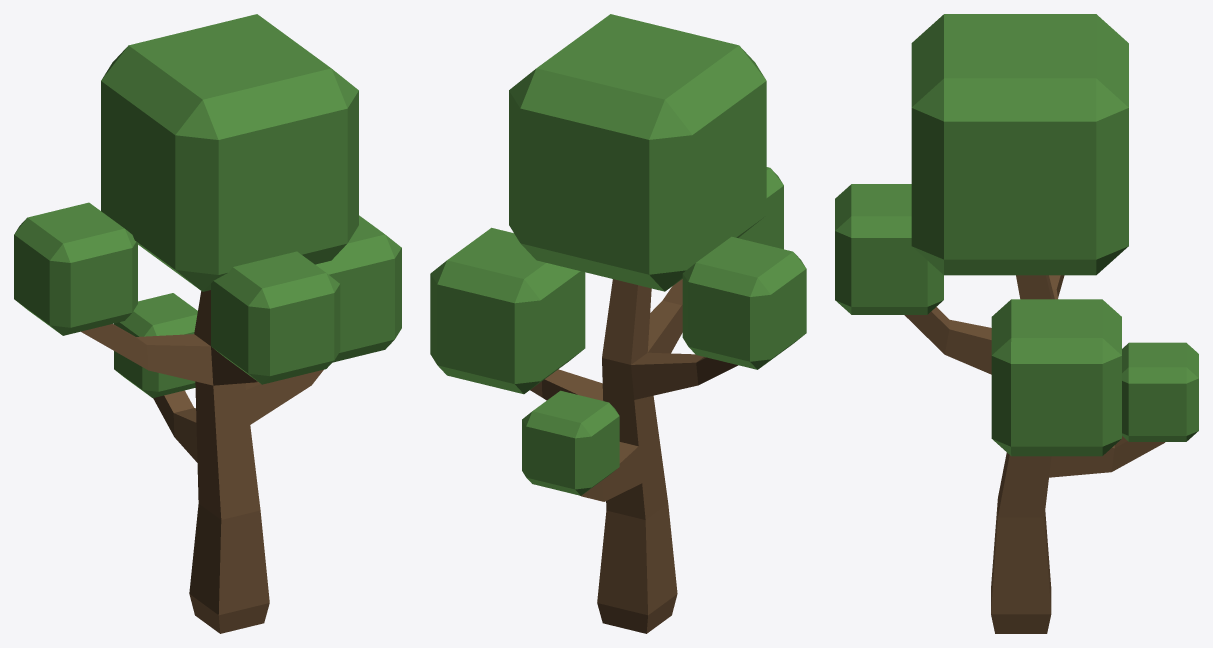
Rendered from tree-detailed.glb.
3 renders of one model, left to right at view 1: azimuth 30°, elevation 25°; view 2: azimuth 150°, elevation 25°; view 3: azimuth 270°, elevation 25°, orthographic. The views are drawn at different scales.
Visible parts, largest first — view 1: tree_detailed; view 2: tree_detailed; view 3: tree_detailed.
Boxes of the visible parts, x1=… form: tree_detailed: x1=14, y1=14, x2=401, y2=633; tree_detailed: x1=430, y1=14, x2=806, y2=633; tree_detailed: x1=835, y1=14, x2=1198, y2=633.
Size of the model in its own units: 1.34 by 2.1 by 1.2.
